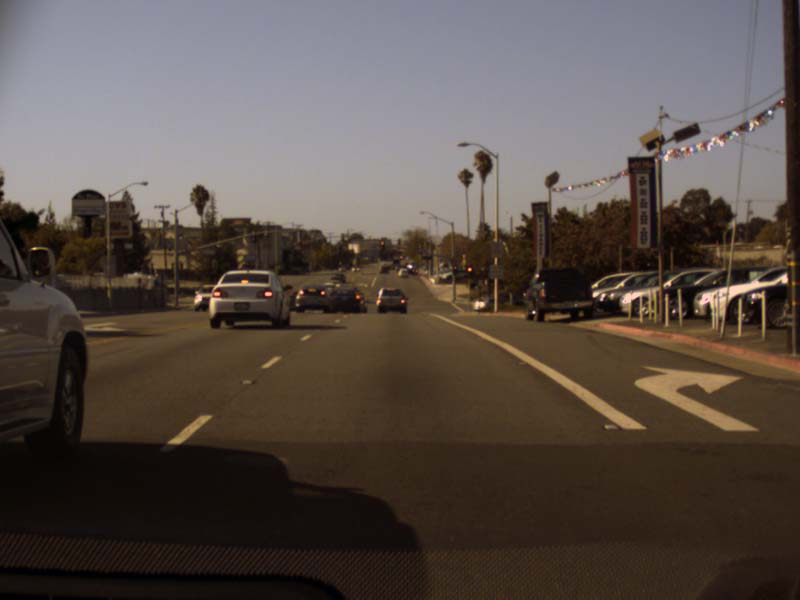Red: (466, 265, 472, 272), (380, 239, 383, 249), (453, 265, 457, 270)
